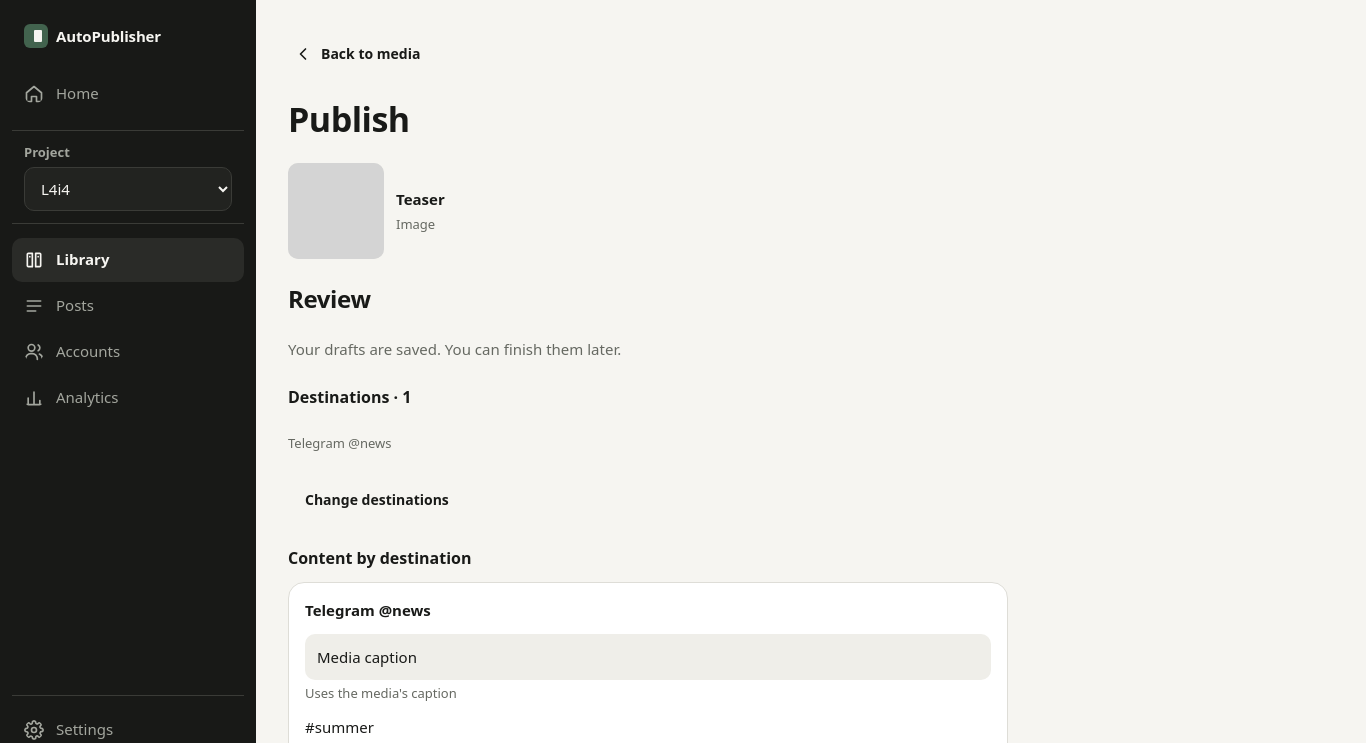
Test: adds a destination as a new Draft with an explicit snapshot
The image size is (1366, 743).
Check: the heading "Publish" is shown, box [288,96,410,142]
Check: the heading "Review" is shown, box [288,282,371,315]
Click the button "Change destinations": (377, 500) [288,478,466,522]
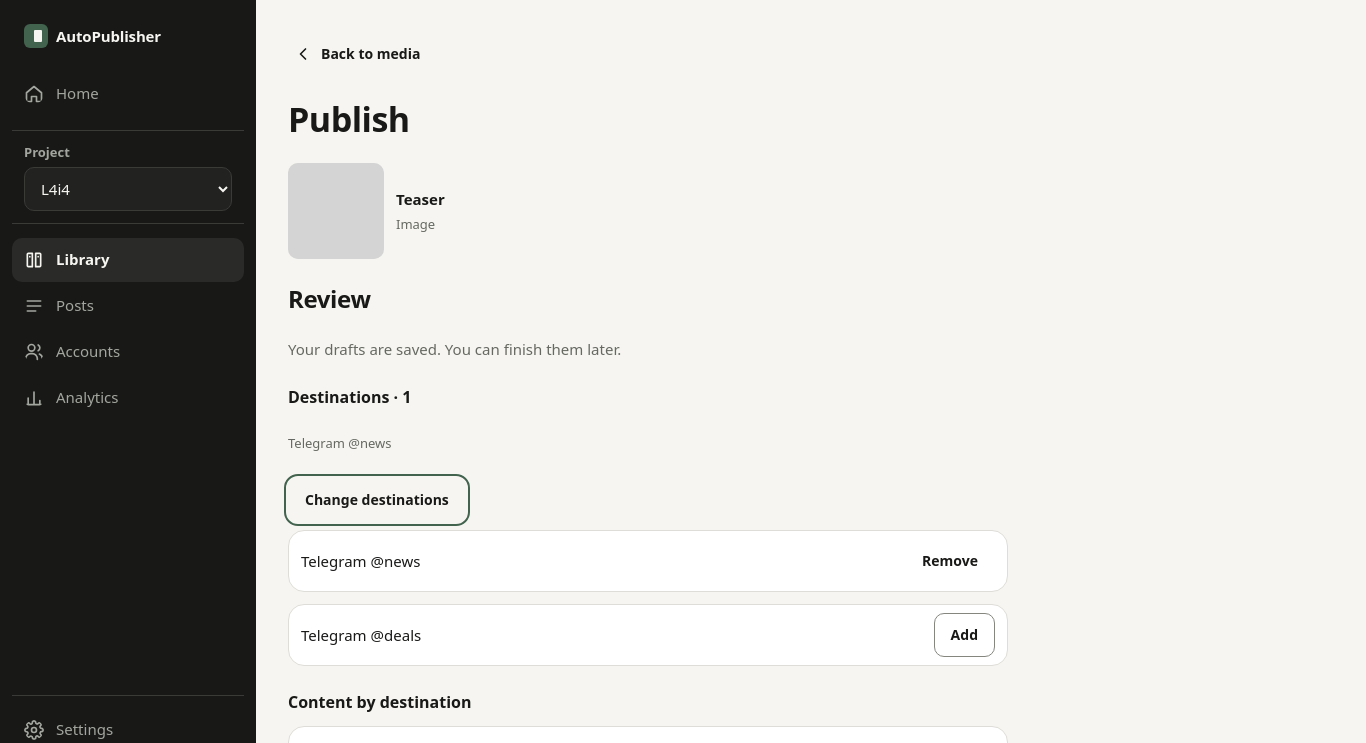
Click the button with aria-label "Add Telegram @deals": (964, 635) [934,613,995,657]
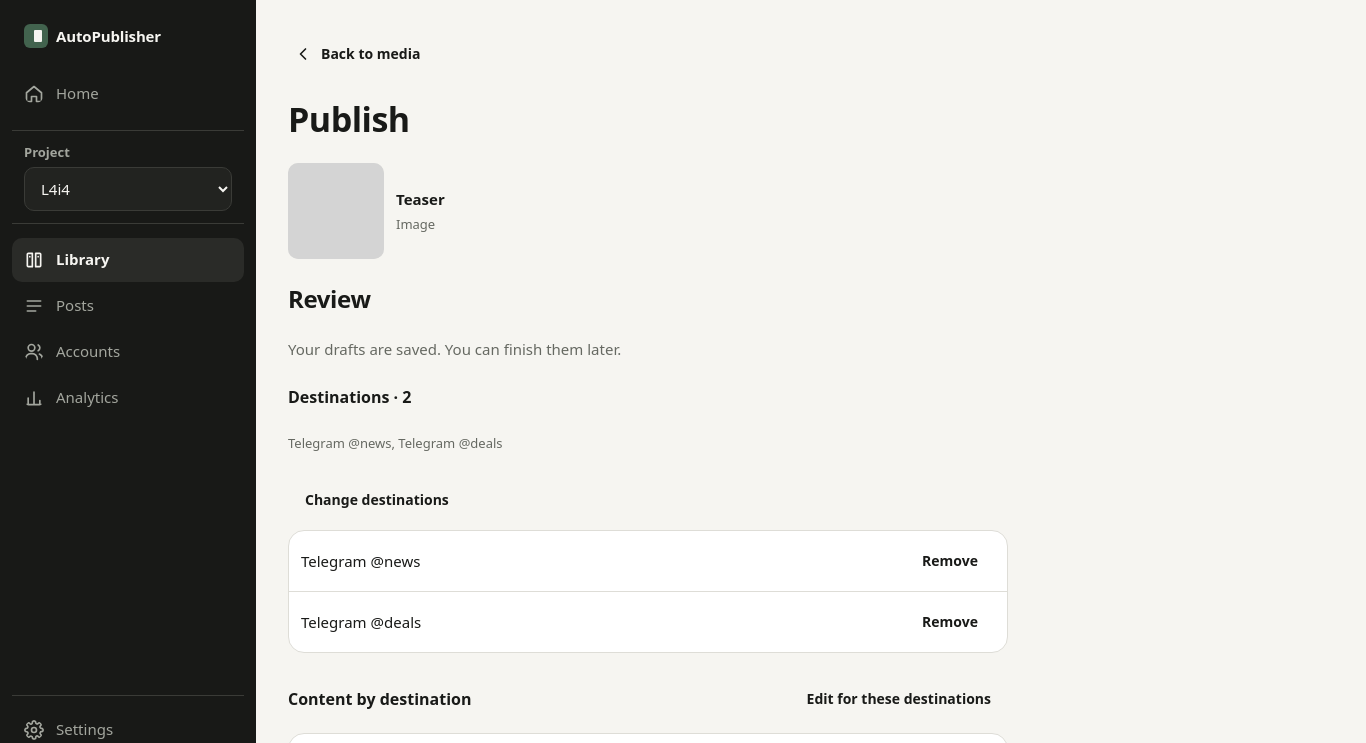
Check: the heading "Destinations · 2" is shown, box [288,386,412,408]
